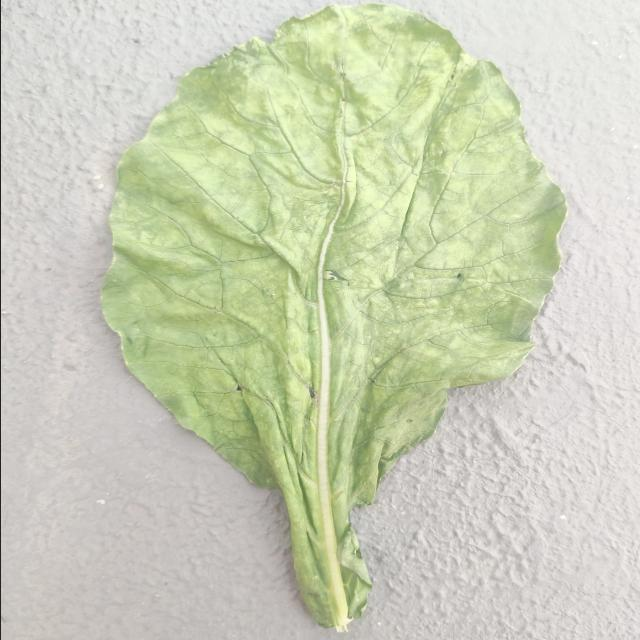leaf: (98, 1, 568, 632)
